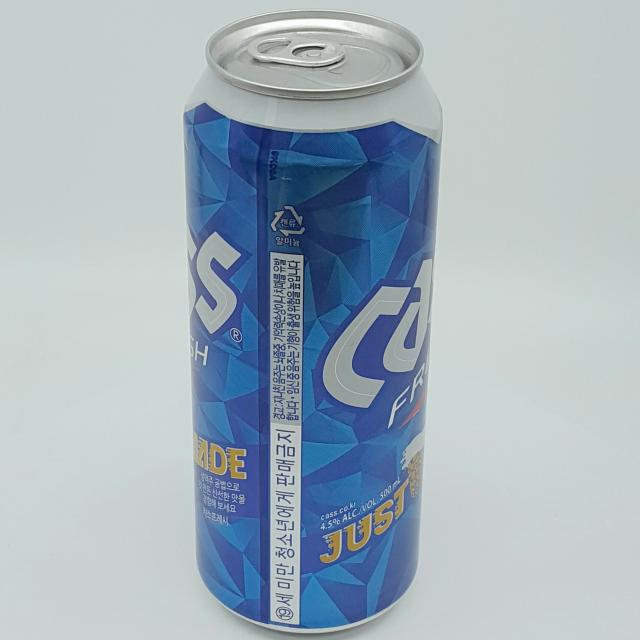beer-can: (182, 9, 443, 632)
